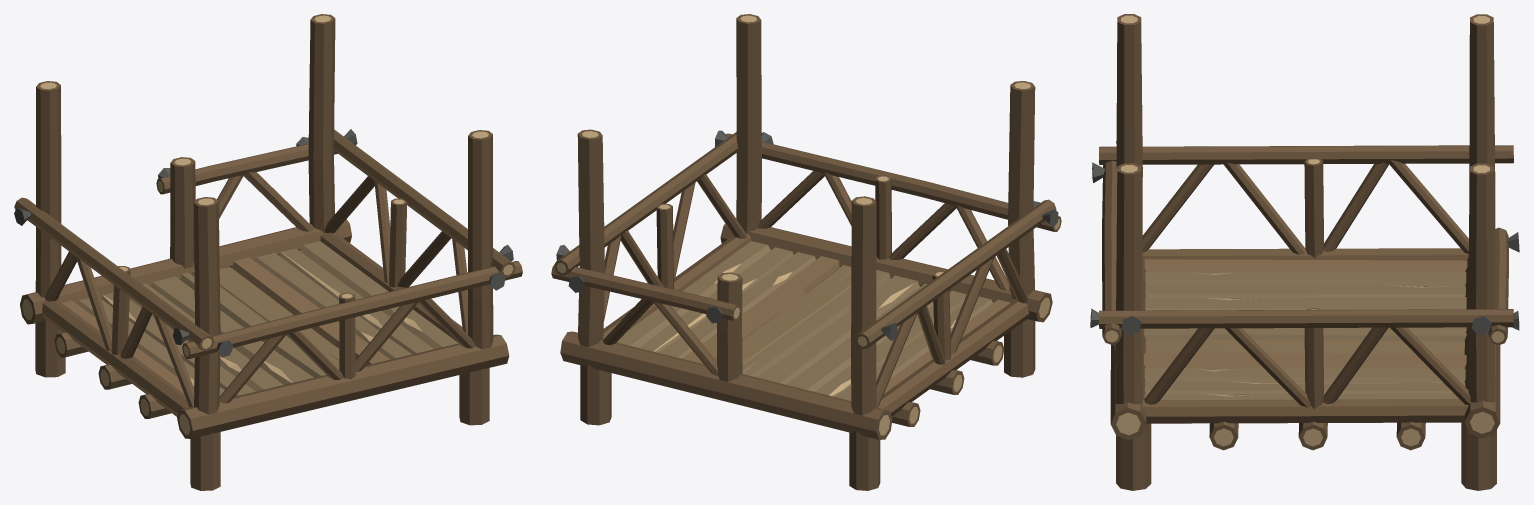
Rendered from rpgpp_ag_stockpile_02_platform_02b.fbx.
3 renders of one model, left to right at view 1: azimuth 30°, elevation 25°; view 2: azimuth 150°, elevation 25°; view 3: azimuth 270°, elevation 25°, orthographic. The views are drawn at different scales.
Parts seen in each view (by area): view 1: rpgpp_ag_stockpile_02_platform_02b; view 2: rpgpp_ag_stockpile_02_platform_02b; view 3: rpgpp_ag_stockpile_02_platform_02b.
Boxes of the visible parts, left/top/right/bottom form: rpgpp_ag_stockpile_02_platform_02b: left=14, top=14, right=522, bottom=490; rpgpp_ag_stockpile_02_platform_02b: left=551, top=14, right=1061, bottom=490; rpgpp_ag_stockpile_02_platform_02b: left=1090, top=14, right=1519, bottom=490.
Size of the model in its own units: 4.84 by 3.92 by 4.81.
